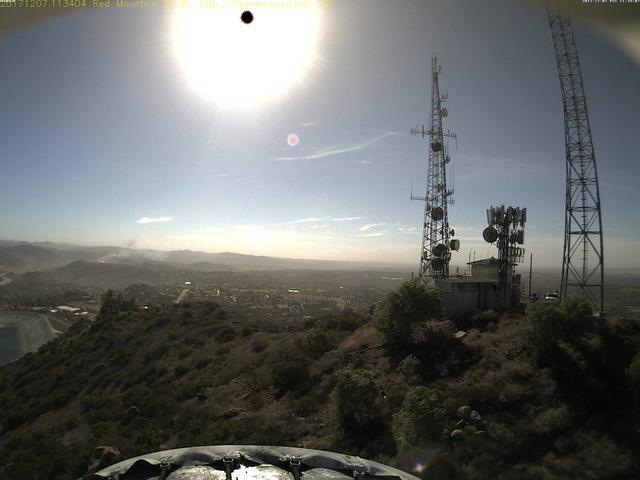smoke: (87, 232, 173, 266)
